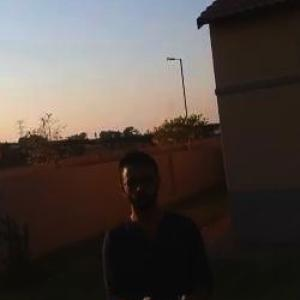follow: (96, 145, 222, 299)
